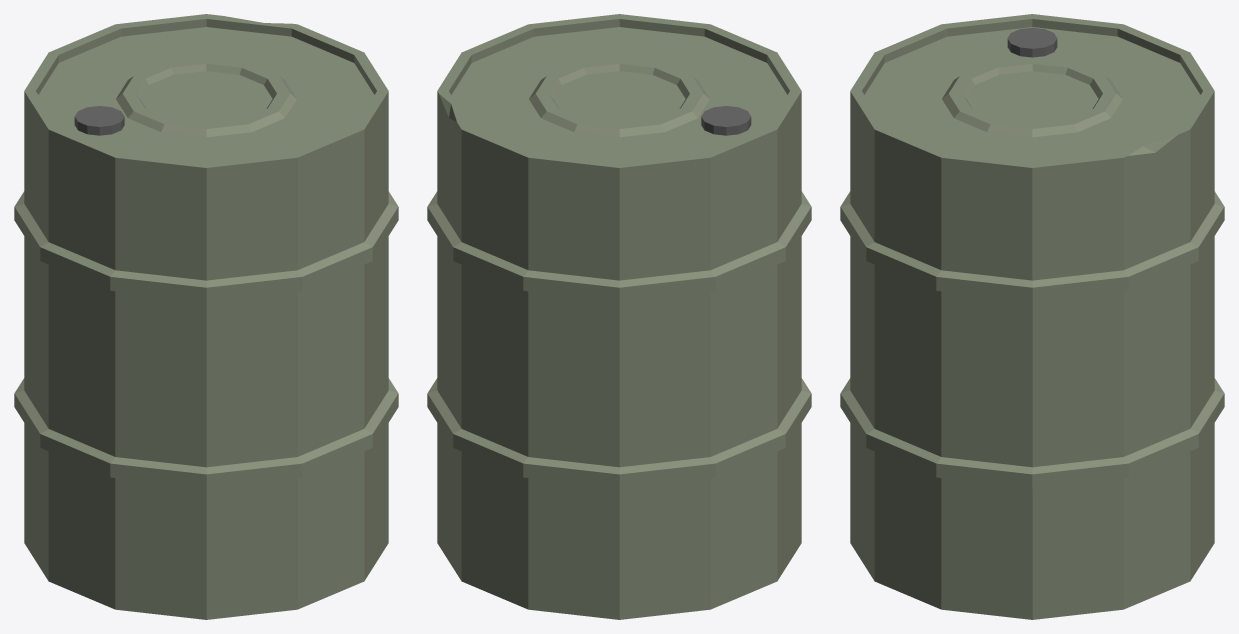
Rendered from Wh_Barrel_03.fbx.
3 views of the same model, side by side, from view 1: azimuth 30°, elevation 25°; view 2: azimuth 150°, elevation 25°; view 3: azimuth 270°, elevation 25° (orthographic).
Parts seen in each view (by area): view 1: Cylinder.058; view 2: Cylinder.058; view 3: Cylinder.058.
Part boxes in pixels (box(x1,y1,x2,y2)): Cylinder.058: box(14, 14, 398, 619); Cylinder.058: box(427, 14, 811, 619); Cylinder.058: box(840, 14, 1224, 619).
Bounding box in the file's own units: 76.93 × 100 × 76.93.
